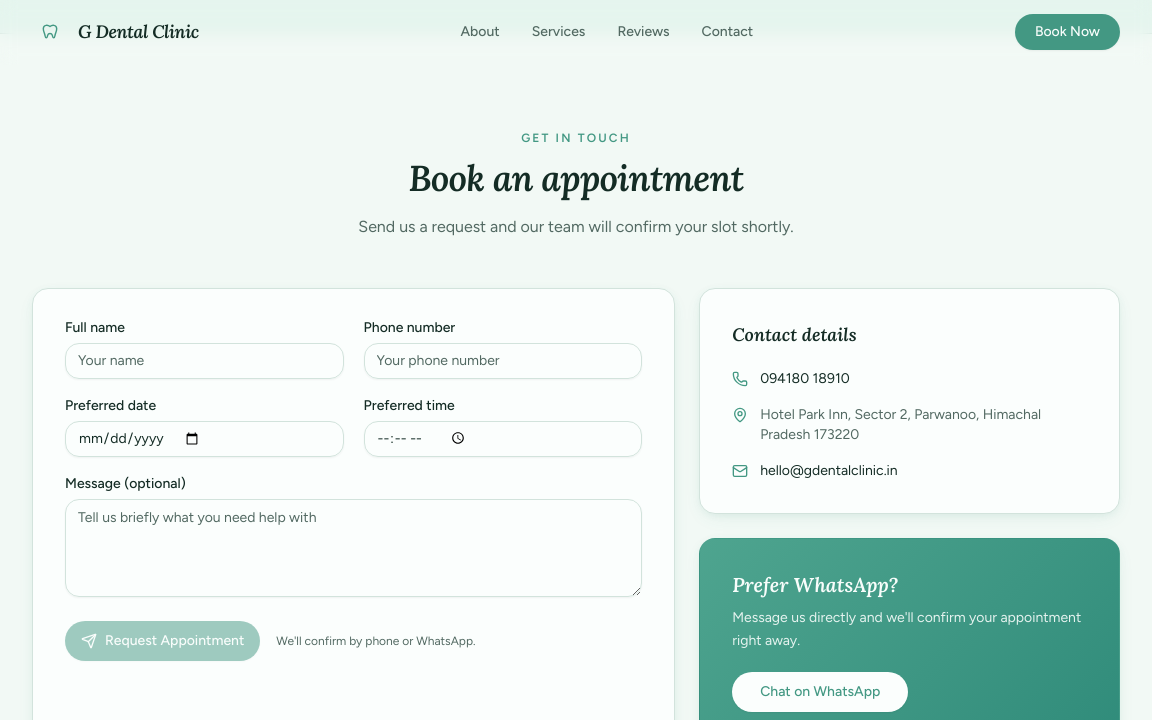
Test: clinic landing page › submits a valid appointment and shows the success confirmation
The width and height of the screenshot is (1152, 720).
(page scrolled)
In the field labelled "Full name": (204, 361) [65,343,344,379], type "Ananya Sharma"
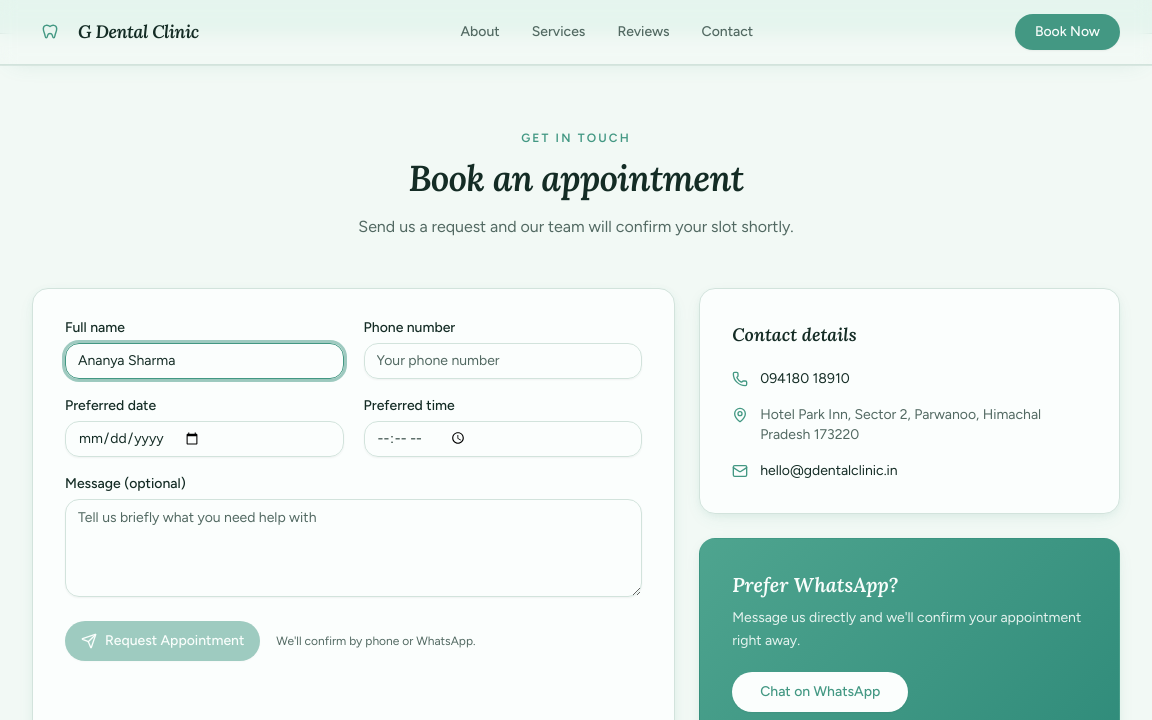
In the field labelled "Phone number": (503, 361) [364,343,642,379], type "9418018910"
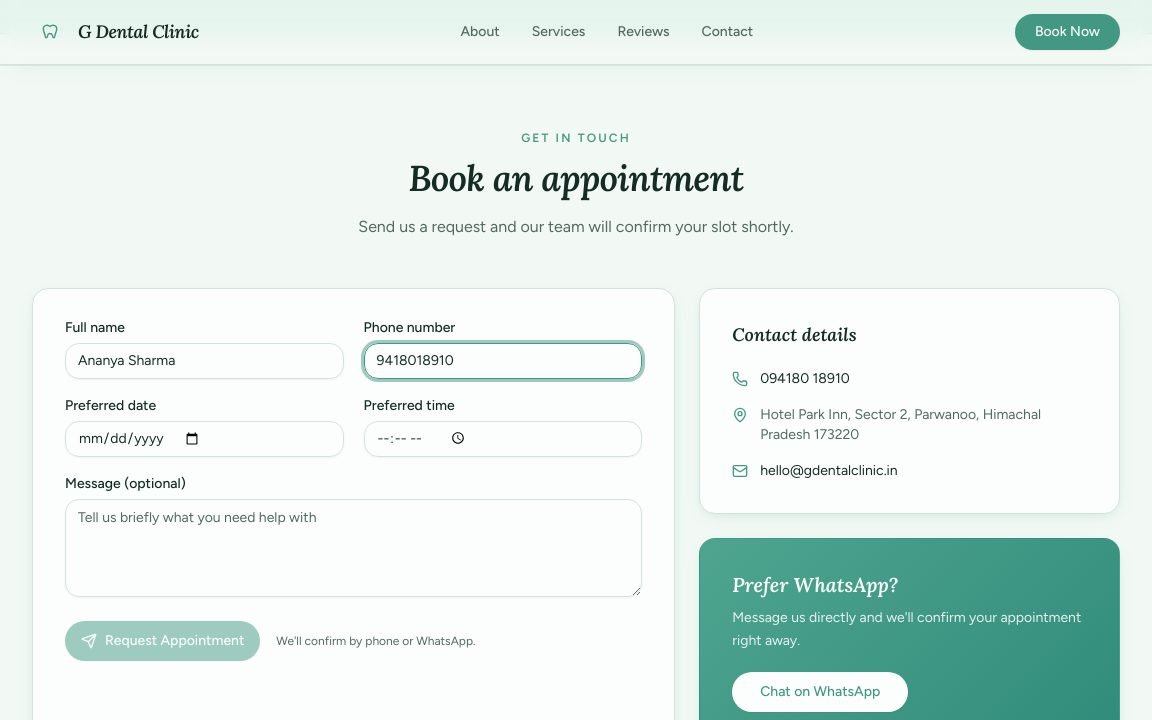
In the date field labelled "Preferred date": (204, 439) [65,421,344,457], type "2026-11-05"
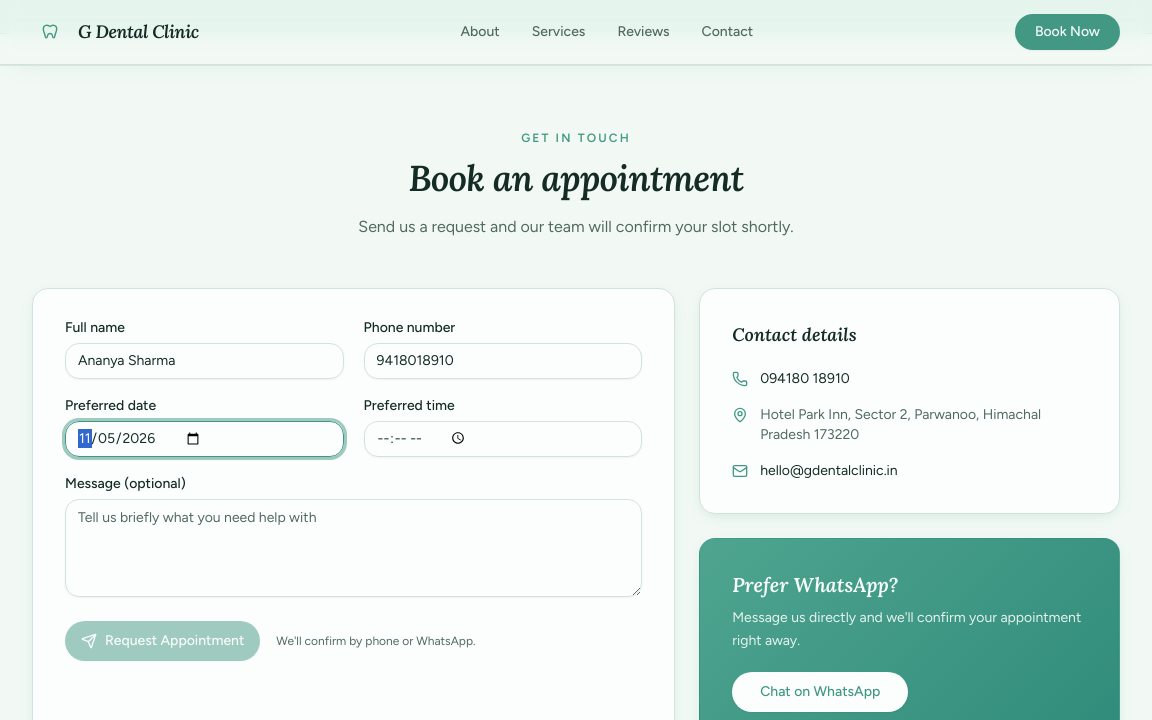
In the time field labelled "Preferred time": (503, 439) [364,421,642,457], type "10:30"
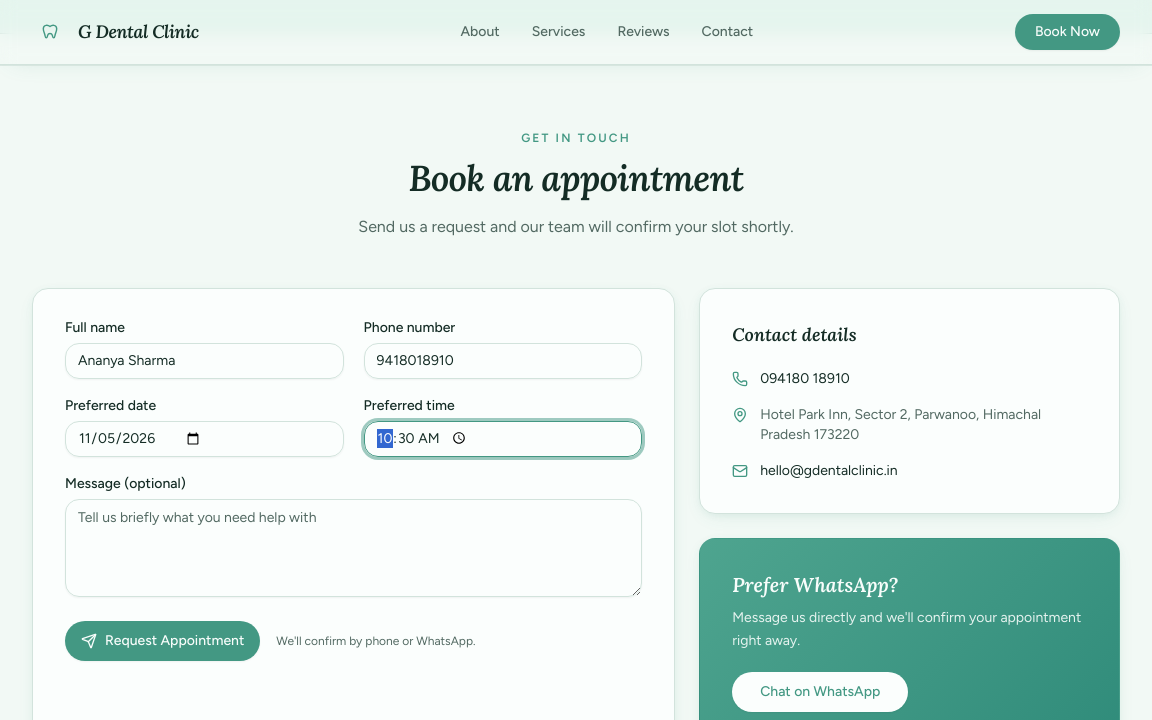
In the text box labelled "Message (optional)": (354, 548) [65,499,642,597], type "Cleaning please"
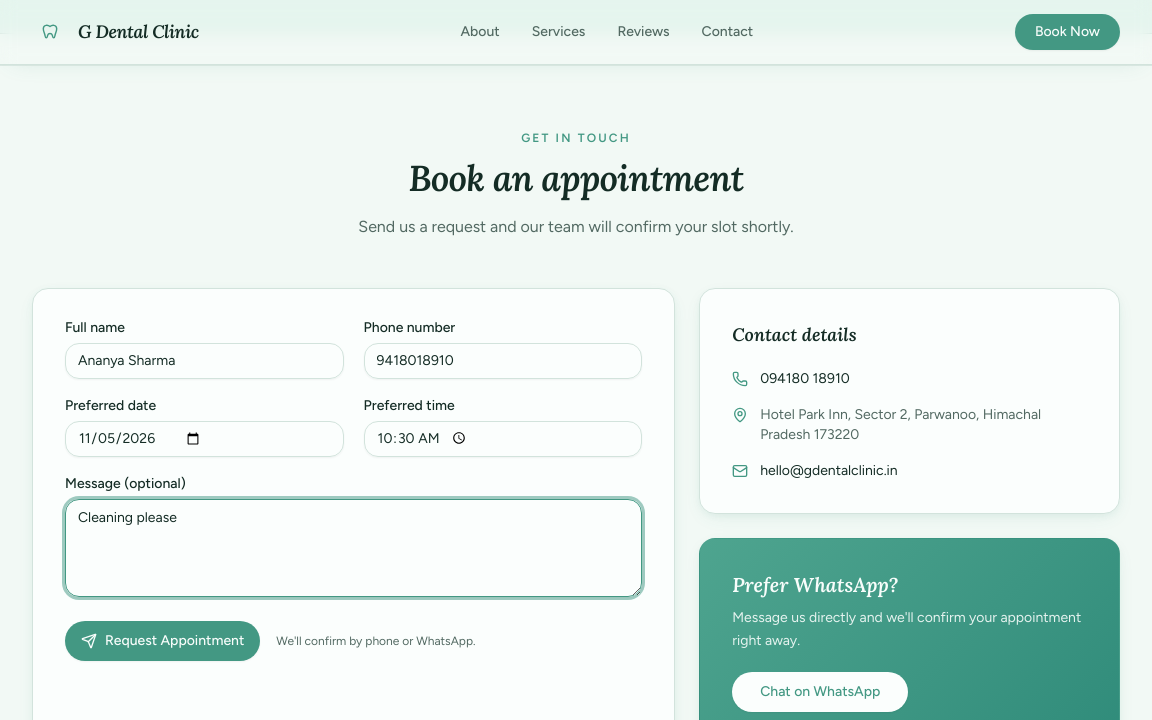
Result: the button "Request Appointment" is enabled
Click the button "Request Appointment": (163, 641) [65,621,260,661]
(page scrolled)
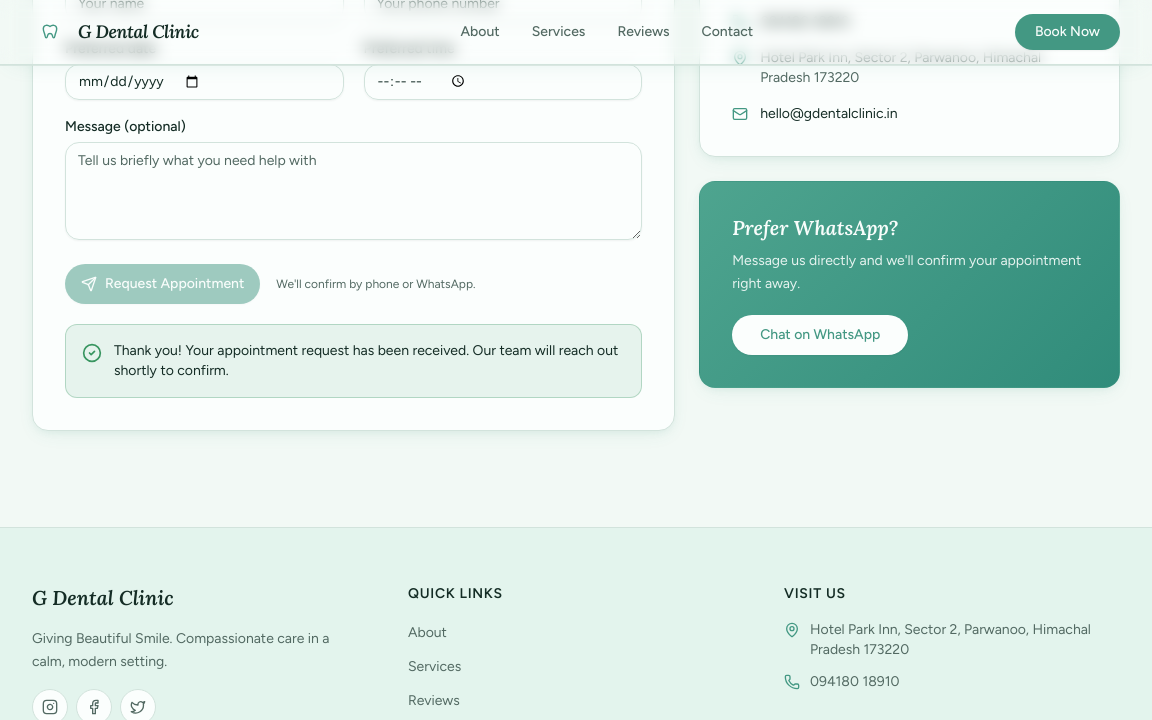
Result: the element with test id "contact.success_state" shows "appointment request has been received" at [114,342,618,379]
